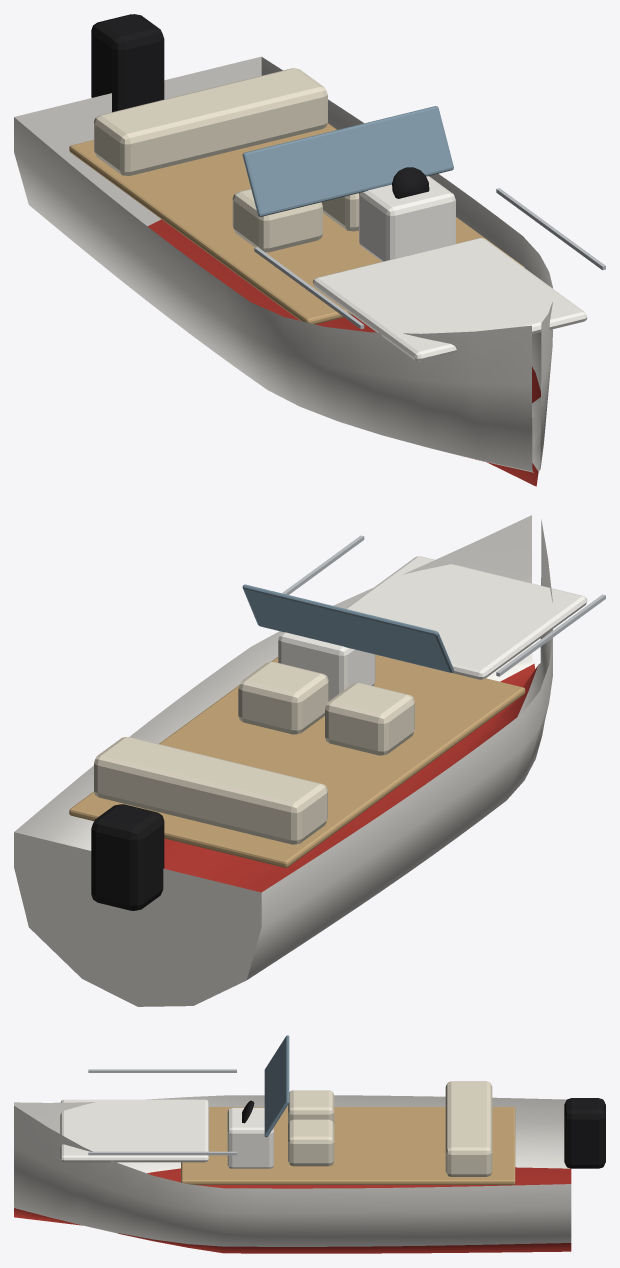
The model's file is motorboat.glb.
3 renders of one model, top to bottom at view 1: azimuth 30°, elevation 25°; view 2: azimuth 150°, elevation 25°; view 3: azimuth 270°, elevation 25°, orthographic. The views are drawn at different scales.
Visible parts, largest first — view 1: motorboatBody; view 2: motorboatBody; view 3: motorboatBody.
Boxes of the visible parts, x1=… form: motorboatBody: x1=14, y1=14, x2=605, y2=486; motorboatBody: x1=14, y1=515, x2=605, y2=1006; motorboatBody: x1=14, y1=1035, x2=605, y2=1253.
Size of the model in its own units: 2.38 by 2.08 by 6.38.
